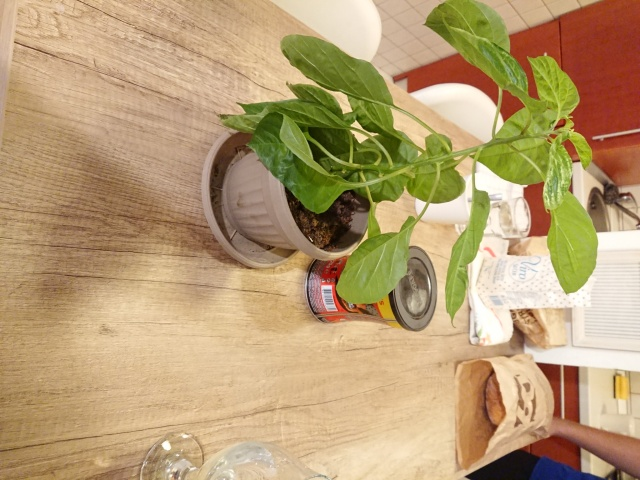Nescafe Classic 225g: (302, 243, 440, 334)
